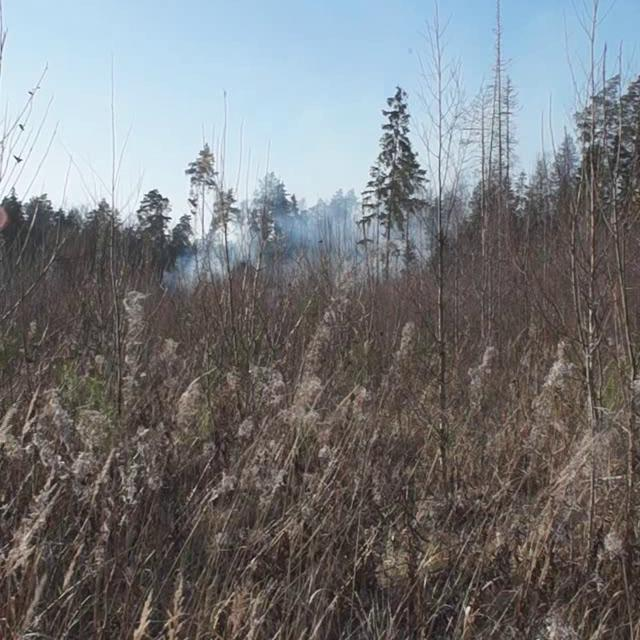Smoke: (156, 174, 478, 304)
